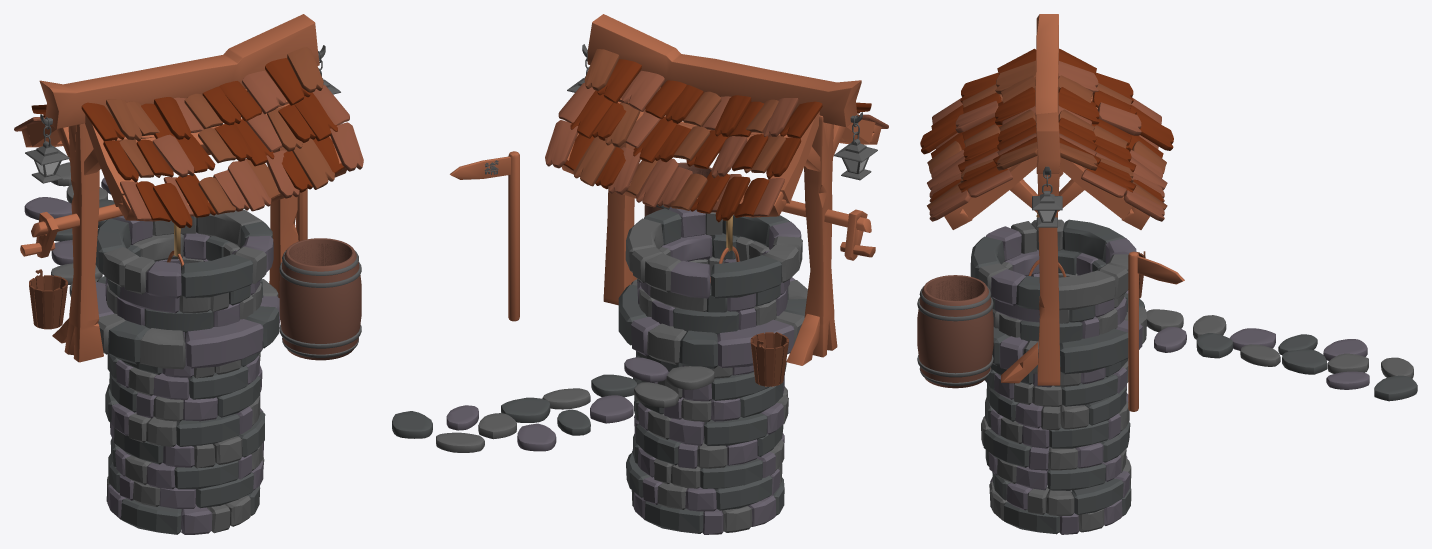
The model's file is Well.fbx.
3 views of the same model, side by side, from view 1: azimuth 30°, elevation 25°; view 2: azimuth 150°, elevation 25°; view 3: azimuth 270°, elevation 25° (orthographic). The views are drawn at different scales.
Visible parts, largest first — view 1: Cube.218, Cube.212, Cube.221, Barell, Cube.216, Cube.219, Cube.225, Cube.229, Cube.223, Cube.227, Cube.224, Cube.226 (+54 smaller); view 2: Cube.218, Cube.212, Cube.221, Cube.216, Cube.219, Cube.225, Cube.228, Cube.229, Cube.227, Cube.038, Cube.226, Post.002 (+56 smaller); view 3: Cube.218, Barell, Cube.221, Cube.217, Cube.212, Cube.228, Cube.226, Cube.224, Cube.225, Cube.219, Cube.223, Cube.229 (+30 smaller).
Part boxes in pixels (x1=…): Cube.218: x1=95, y1=209, x2=273, y2=298; Cube.212: x1=39, y1=14, x2=319, y2=128; Cube.221: x1=95, y1=276, x2=280, y2=369; Barell: x1=279, y1=238, x2=361, y2=360; Cube.216: x1=64, y1=123, x2=103, y2=362; Cube.219: x1=107, y1=232, x2=260, y2=313; Cube.225: x1=105, y1=384, x2=260, y2=446; Cube.229: x1=106, y1=476, x2=260, y2=534; Cube.223: x1=107, y1=332, x2=260, y2=399; Cube.227: x1=110, y1=438, x2=263, y2=489; Cube.224: x1=109, y1=365, x2=262, y2=421; Cube.226: x1=110, y1=408, x2=265, y2=468; Cube.218: x1=625, y1=207, x2=802, y2=298; Cube.212: x1=587, y1=14, x2=861, y2=126; Cube.221: x1=618, y1=277, x2=807, y2=368; Cube.216: x1=804, y1=115, x2=837, y2=357; Cube.219: x1=639, y1=233, x2=790, y2=312; Cube.225: x1=634, y1=386, x2=788, y2=445; Cube.228: x1=626, y1=451, x2=782, y2=511; Cube.229: x1=631, y1=477, x2=784, y2=534; Cube.227: x1=632, y1=433, x2=784, y2=489; Cube.038: x1=637, y1=256, x2=788, y2=334; Cube.226: x1=634, y1=415, x2=783, y2=468; Post.002: x1=450, y1=151, x2=519, y2=321; Cube.218: x1=970, y1=219, x2=1136, y2=310; Barell: x1=917, y1=275, x2=993, y2=388; Cube.221: x1=992, y1=290, x2=1146, y2=374; Cube.217: x1=1037, y1=167, x2=1060, y2=385; Cube.212: x1=1035, y1=14, x2=1060, y2=173; Cube.228: x1=992, y1=456, x2=1131, y2=515; Cube.226: x1=981, y1=416, x2=1130, y2=470; Cube.224: x1=986, y1=383, x2=1126, y2=430; Cube.225: x1=985, y1=393, x2=1129, y2=448; Cube.219: x1=991, y1=249, x2=1124, y2=323; Cube.223: x1=985, y1=358, x2=1128, y2=406; Cube.229: x1=989, y1=477, x2=1131, y2=534.
Bounding box in the file's own units: 466 × 569 × 603.
